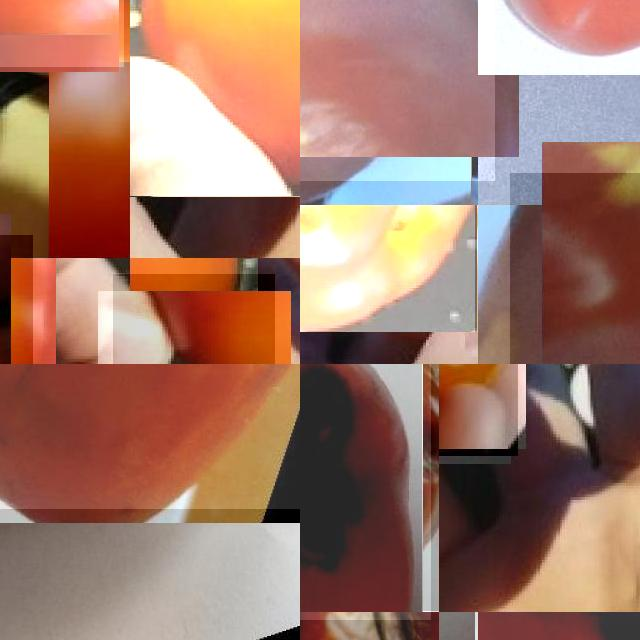Fresh Tomato: (130, 0, 300, 196), (301, 205, 475, 332), (113, 274, 274, 364)
Rotten Tomato: (0, 364, 300, 509), (300, 0, 495, 181), (300, 364, 431, 620), (510, 173, 640, 364)
